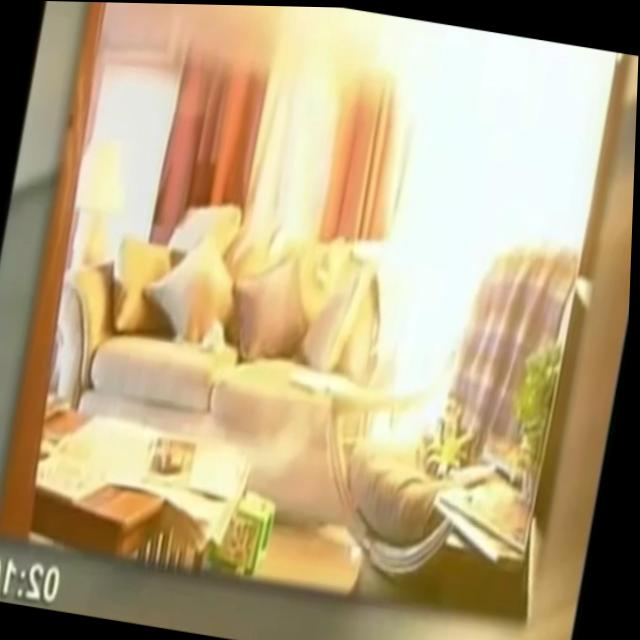fire: (353, 47, 533, 472)
